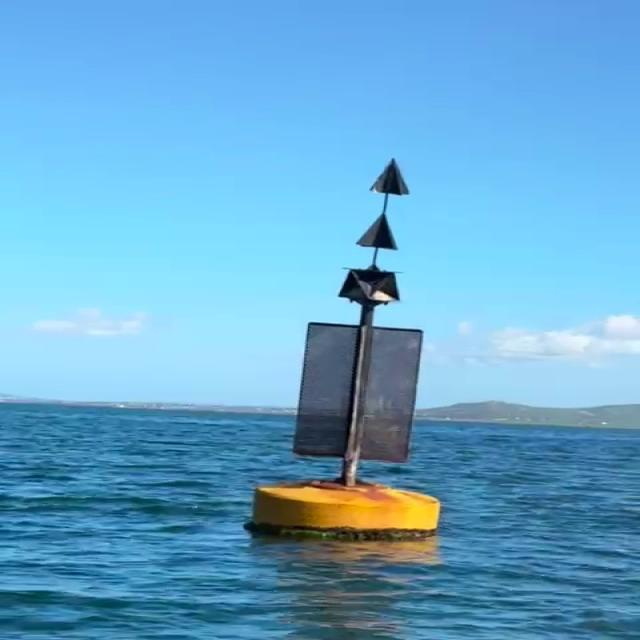marque: (243, 158, 440, 555)
